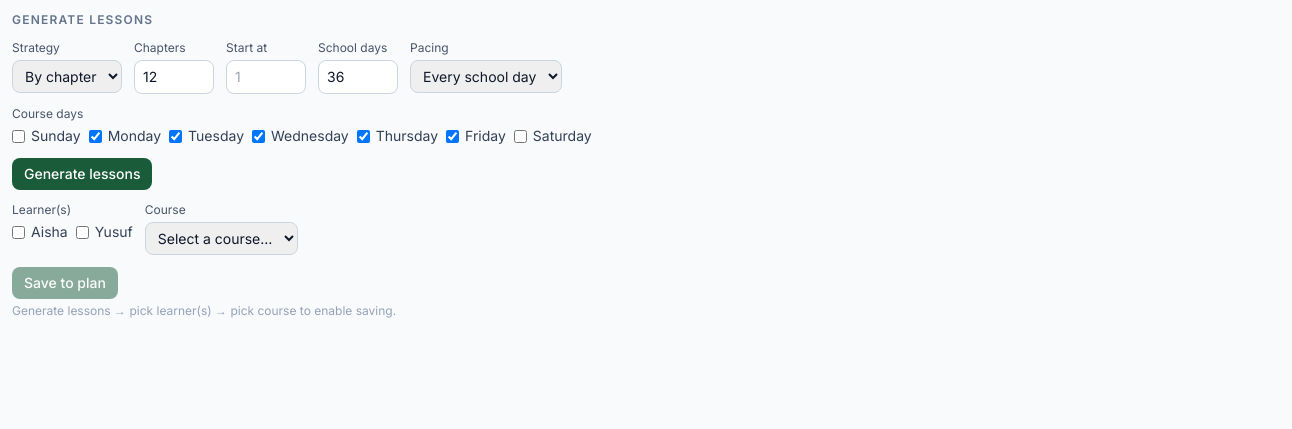
Test: LessonGenerationPanel — learner/course selectors › renders a disabled "Save to plan" button until a learner and course are chosen, after generating lessons
Step 1. Click the button with test id "generate-lessons-button" → (82, 174), box 12,158 -> 152,190
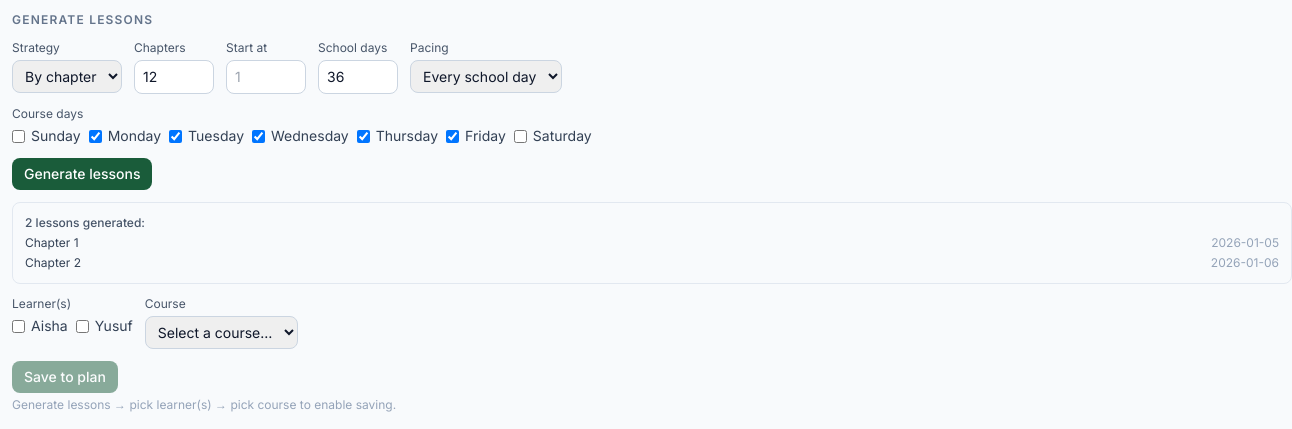
Check: the button "Save to plan" is disabled, box 12,361 -> 118,393
Check: the text "2 lessons generated:" is shown, box 25,215 -> 145,230
Step 2. Click the checkbox labelled "Aisha" → (18, 326), box 12,320 -> 25,332
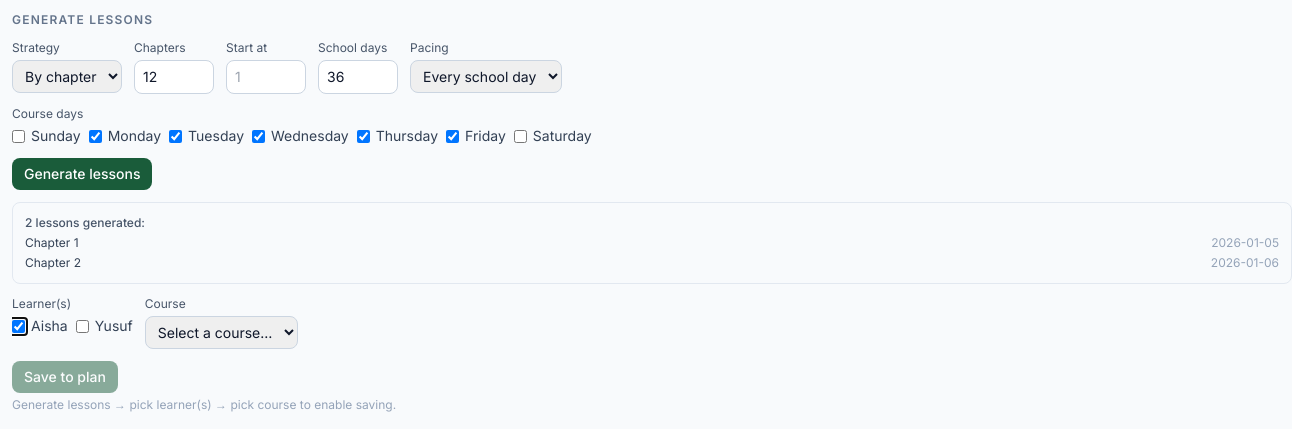
Check: the button "Save to plan" is disabled, box 12,361 -> 118,393
Step 3. Select "Math 7/6" in the dropdown with test id "generation-course-select" → (221, 332), box 145,316 -> 298,349
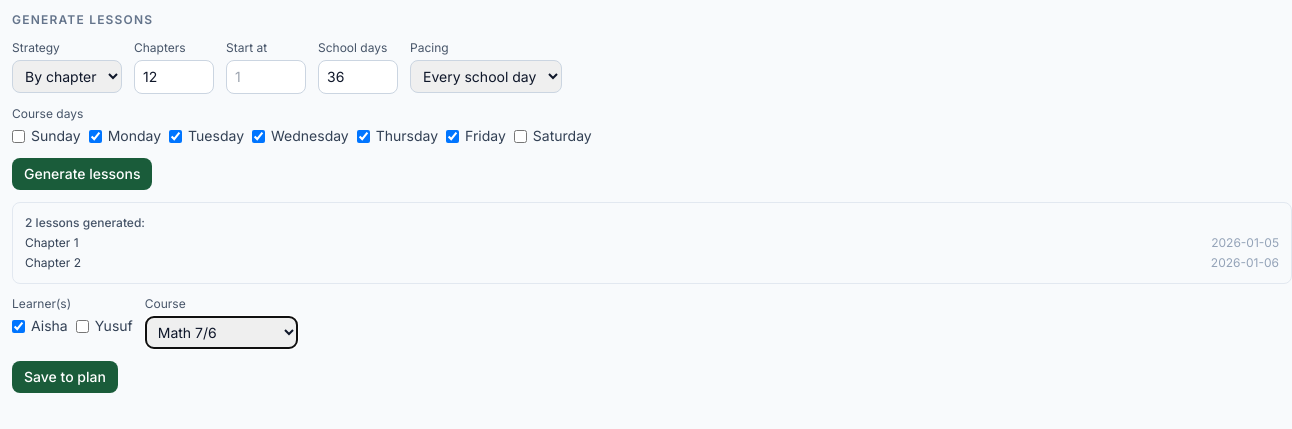
Check: the button "Save to plan" is enabled, box 12,361 -> 118,393
